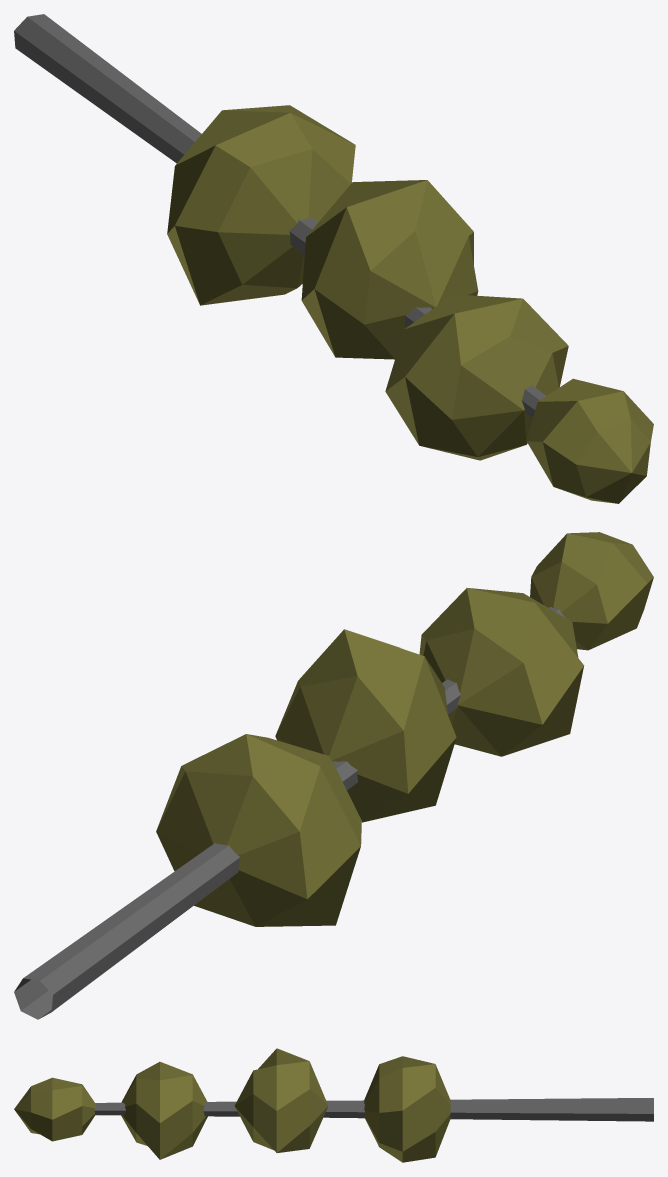
Rendered from dying_0.glb.
3 renders of one model, top to bottom at view 1: azimuth 30°, elevation 25°; view 2: azimuth 150°, elevation 25°; view 3: azimuth 270°, elevation 25°, orthographic. The views are drawn at different scales.
Visible parts, largest first — view 1: tree_06_dying_0; view 2: tree_06_dying_0; view 3: tree_06_dying_0.
Part boxes in pixels (x1,y1,x2,y2): tree_06_dying_0: (14,14,653,503); tree_06_dying_0: (14,532,653,1019); tree_06_dying_0: (14,1048,653,1162).
Size of the model in its own units: 9.69 by 9.95 by 55.49.
